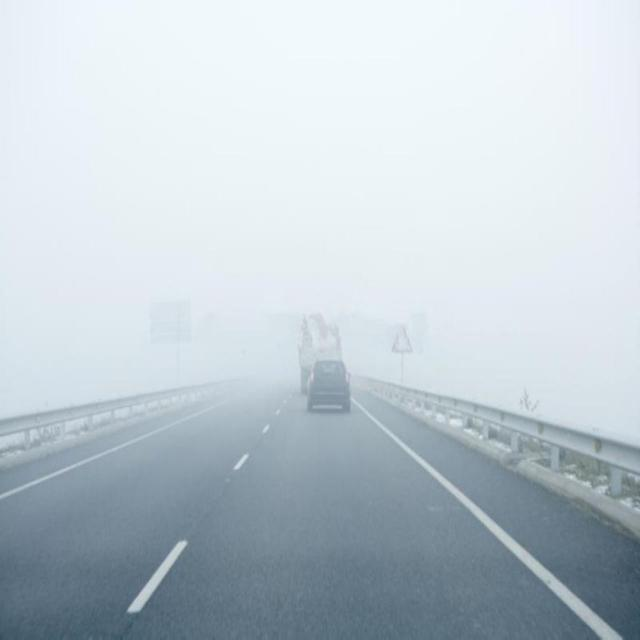Car: (306, 357, 352, 412)
Truck: (300, 320, 343, 395)
